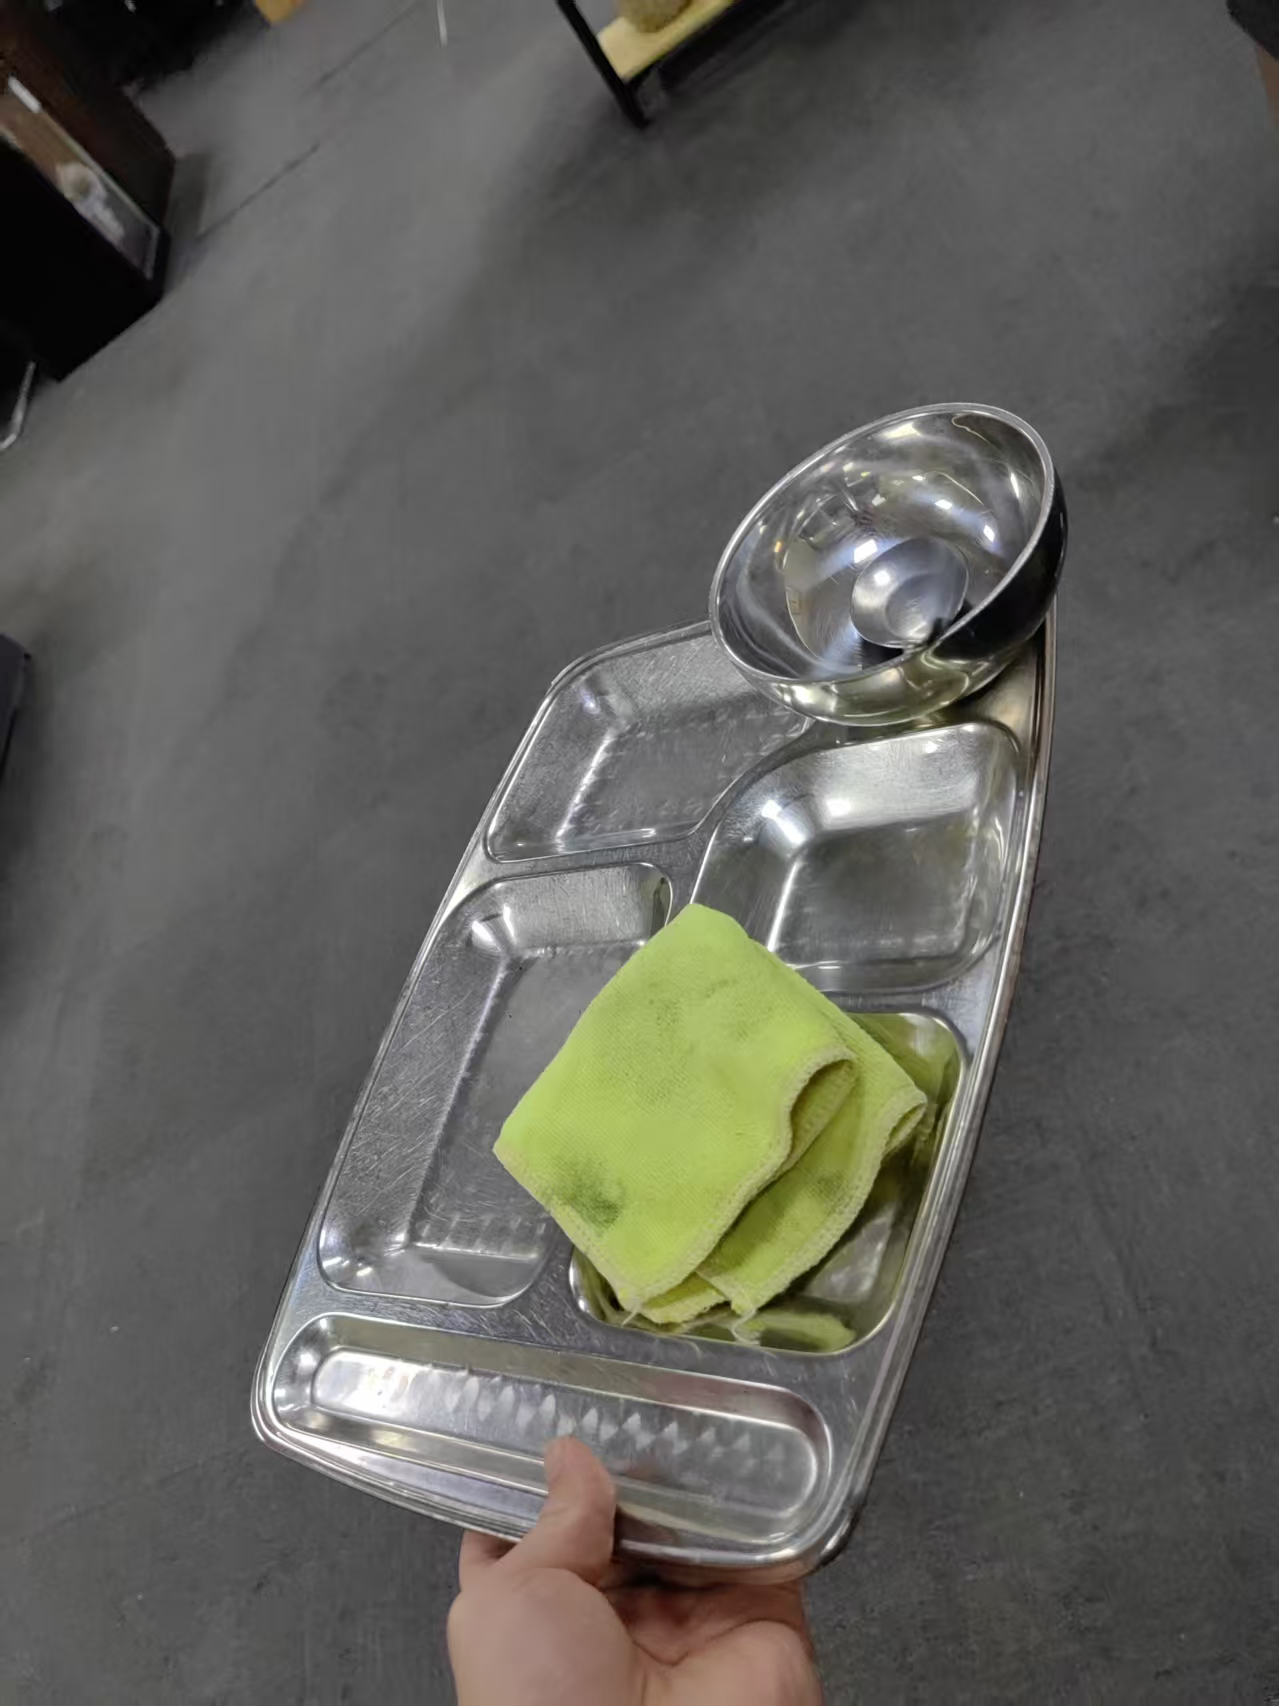mild: (487, 900, 931, 1326)
plate: (244, 547, 1059, 1590)
